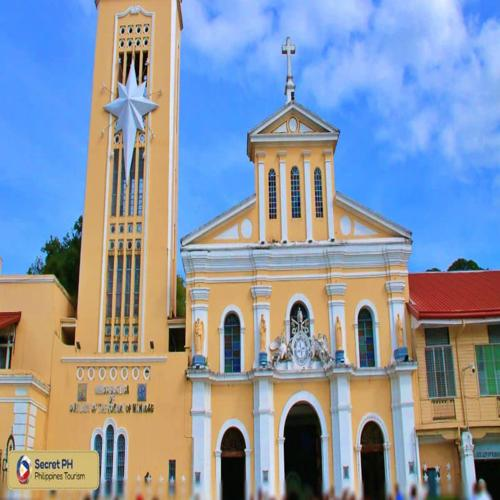Manaoag Church: (80, 2, 416, 497)
